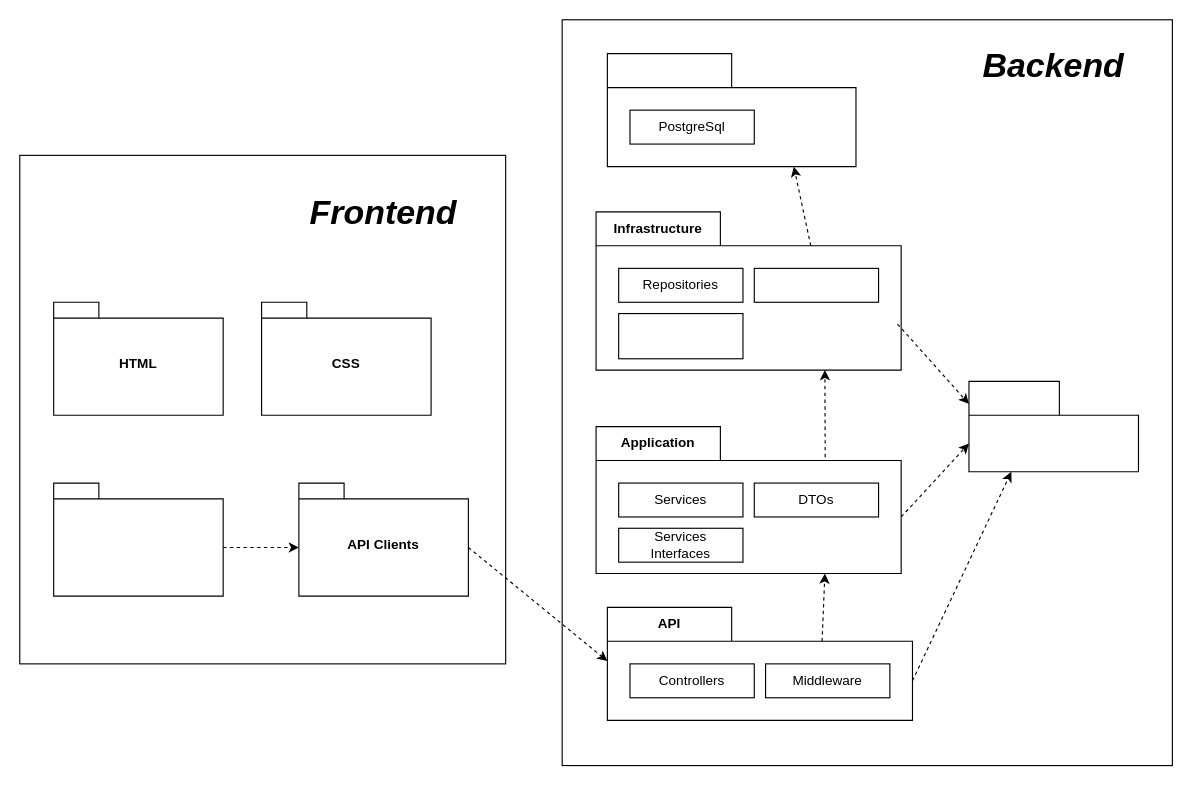
The diagram is 1196 pixels wide and 785 high, and some of its shapes have lost their labels. Each missing label, with the centre of its shape:
Database: (731,110)
DBContext: (816,284)
JS: (138,539)
Models: (1053,426)
Repositories Interfaces: (680,335)
